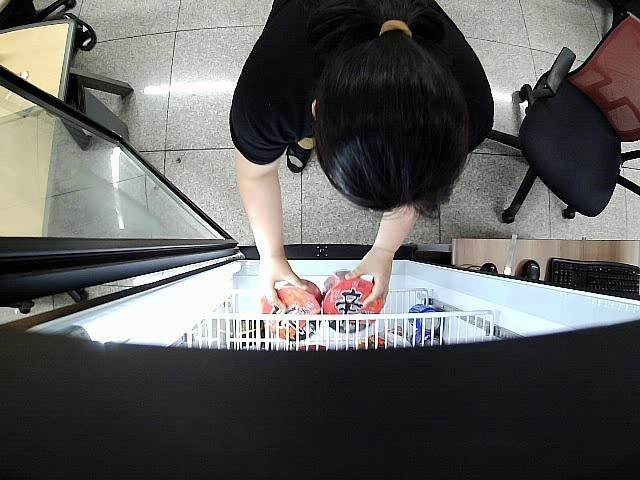00_hand: (345, 251, 392, 308), (256, 261, 309, 309)
01_shinRamen_L: (322, 269, 383, 333), (263, 277, 321, 343)
